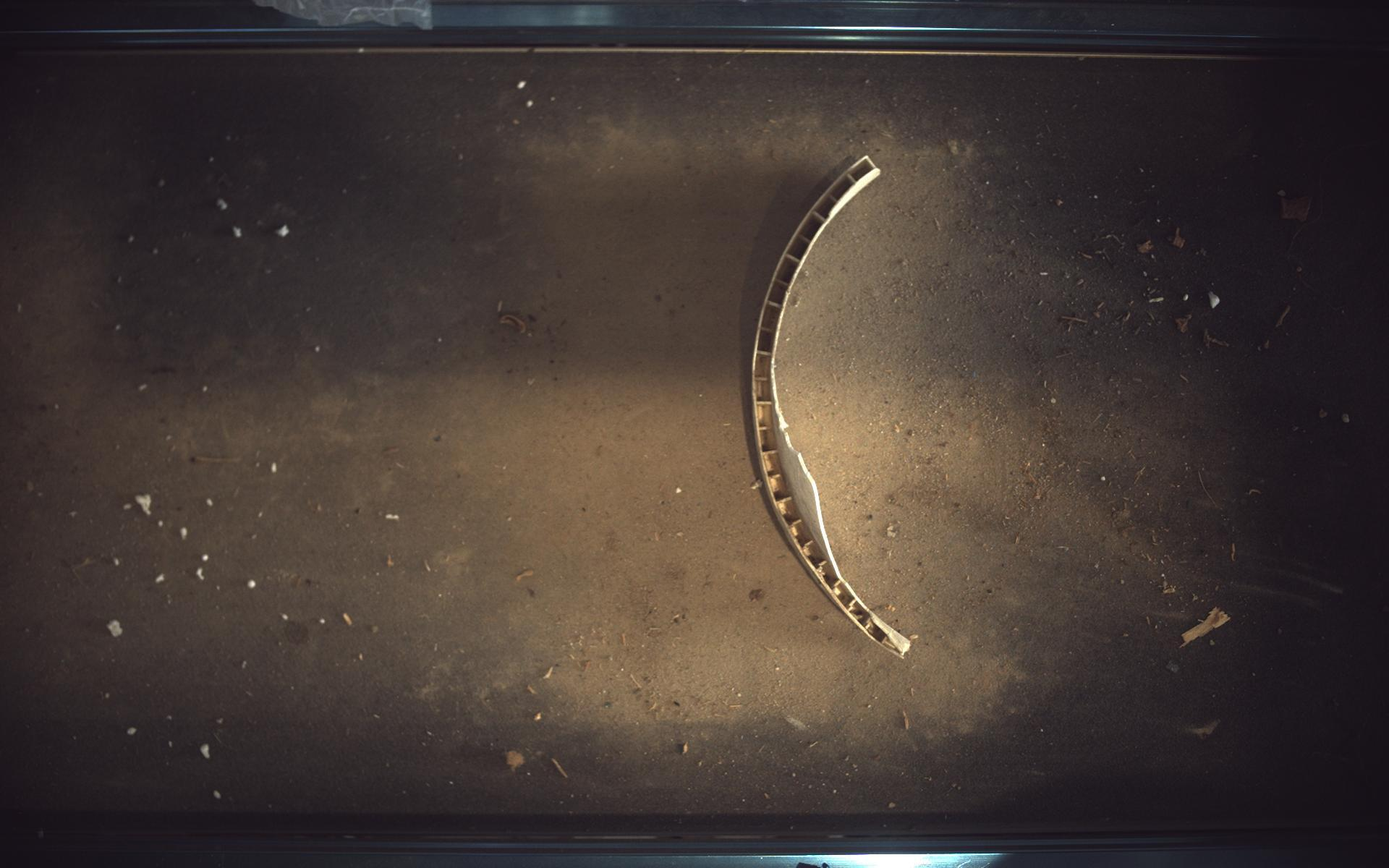plastic: (752, 155, 912, 658)
